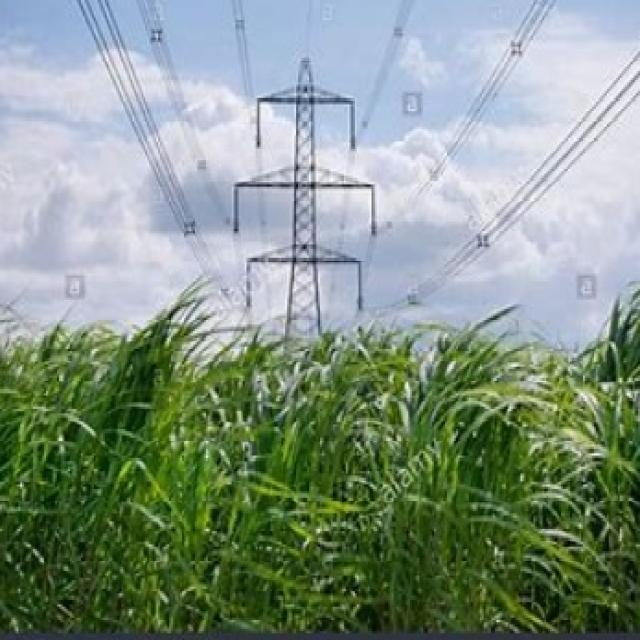utility poles: (226, 38, 368, 625)
